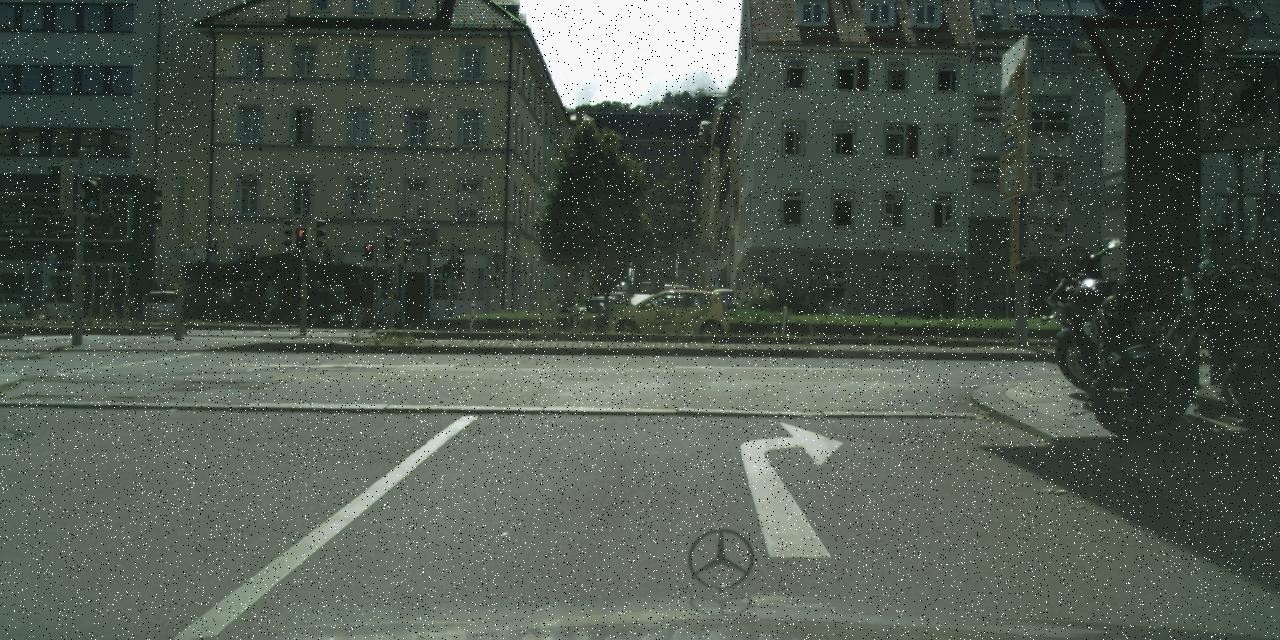ped: (346, 274, 368, 330), (388, 295, 402, 329)
